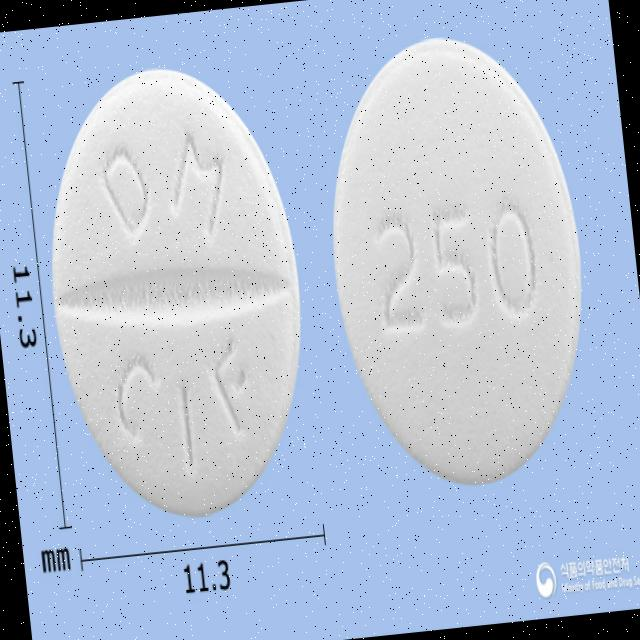Cifxacin: (305, 16, 608, 509), (26, 48, 326, 536)
